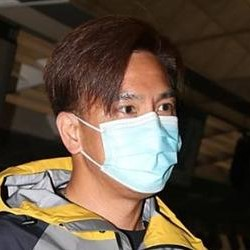mask: (72, 110, 181, 194)
